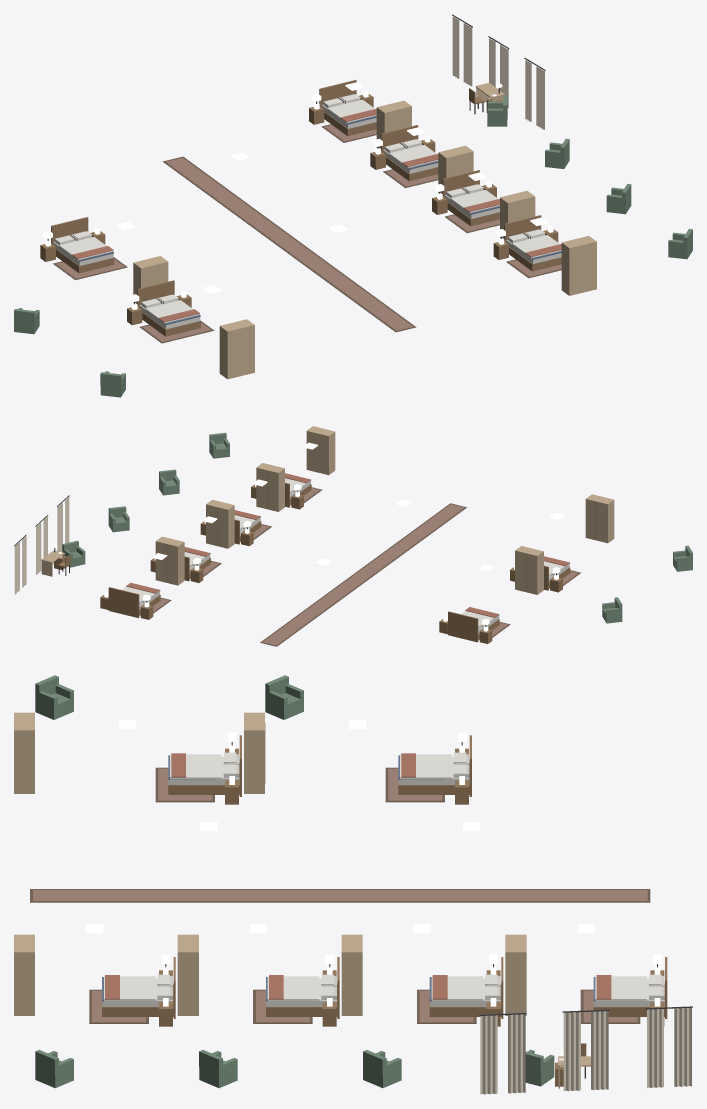
Rendered from fine-s4.glb.
The picture shows the model from 3 angles, top to bottom: view 1: azimuth 30°, elevation 25°; view 2: azimuth 150°, elevation 25°; view 3: azimuth 270°, elevation 25°; orthographic projection. The views are drawn at different scales.
Visible parts, largest first — view 1: soft-s4, dresser.019, dresser.023, bed-frame.019, bed-frame.018, bed-frame.020, bed-frame.022, bed-frame.023, bed-frame.021, dresser.020, dresser.021, dresser.018 (+6 smaller); view 2: soft-s4, dresser.019, dresser.018, dresser.023, dresser.020, dresser.021, dresser.022, bed-frame.020, bed-frame.018, lounge-chair.021, lounge-chair.023, lounge-chair.022 (+4 smaller); view 3: soft-s4, dresser.021, dresser.022, dresser.018, dresser.020, dresser.019, dresser.023, lounge-chair.018, lounge-chair.019, bed-frame.021, bed-frame.022, bed-frame.019 (+7 smaller).
Boxes of the visible parts, x1,y1,x2,y2 form: soft-s4: (43,14,561,343); dresser.019: (219,319,254,379); dresser.023: (561,236,596,295); bed-frame.019: (137,280,200,336); bed-frame.018: (51,217,114,273); bed-frame.020: (319,80,376,136); bed-frame.022: (442,170,499,226); bed-frame.023: (504,215,561,271); bed-frame.021: (381,125,438,181); dresser.020: (376,100,411,148); dresser.021: (438,145,473,193); dresser.018: (133,256,168,303); soft-s4: (14,473,580,646); dresser.019: (585,494,614,543); dresser.018: (515,546,543,594); dresser.023: (306,426,335,475); dresser.020: (155,536,184,585); dresser.021: (206,499,234,548); dresser.022: (256,463,284,511); bed-frame.020: (108,587,160,617); bed-frame.018: (448,611,499,642); lounge-chair.021: (108,506,129,532); lounge-chair.023: (209,432,229,458); lounge-chair.022: (159,469,179,495); soft-s4: (30,732,692,1094); dresser.021: (341,934,362,1015); dresser.022: (177,934,198,1015); dresser.018: (244,712,265,793); dresser.020: (505,934,526,1015); dresser.019: (14,712,34,793); dresser.023: (14,934,34,1015); lounge-chair.018: (265,675,303,719); lounge-chair.019: (35,675,73,719); bed-frame.021: (429,957,503,1018); bed-frame.022: (266,957,339,1018); bed-frame.019: (168,735,241,796).
Size of the model in its own units: 26.49 by 2.56 by 19.37.
